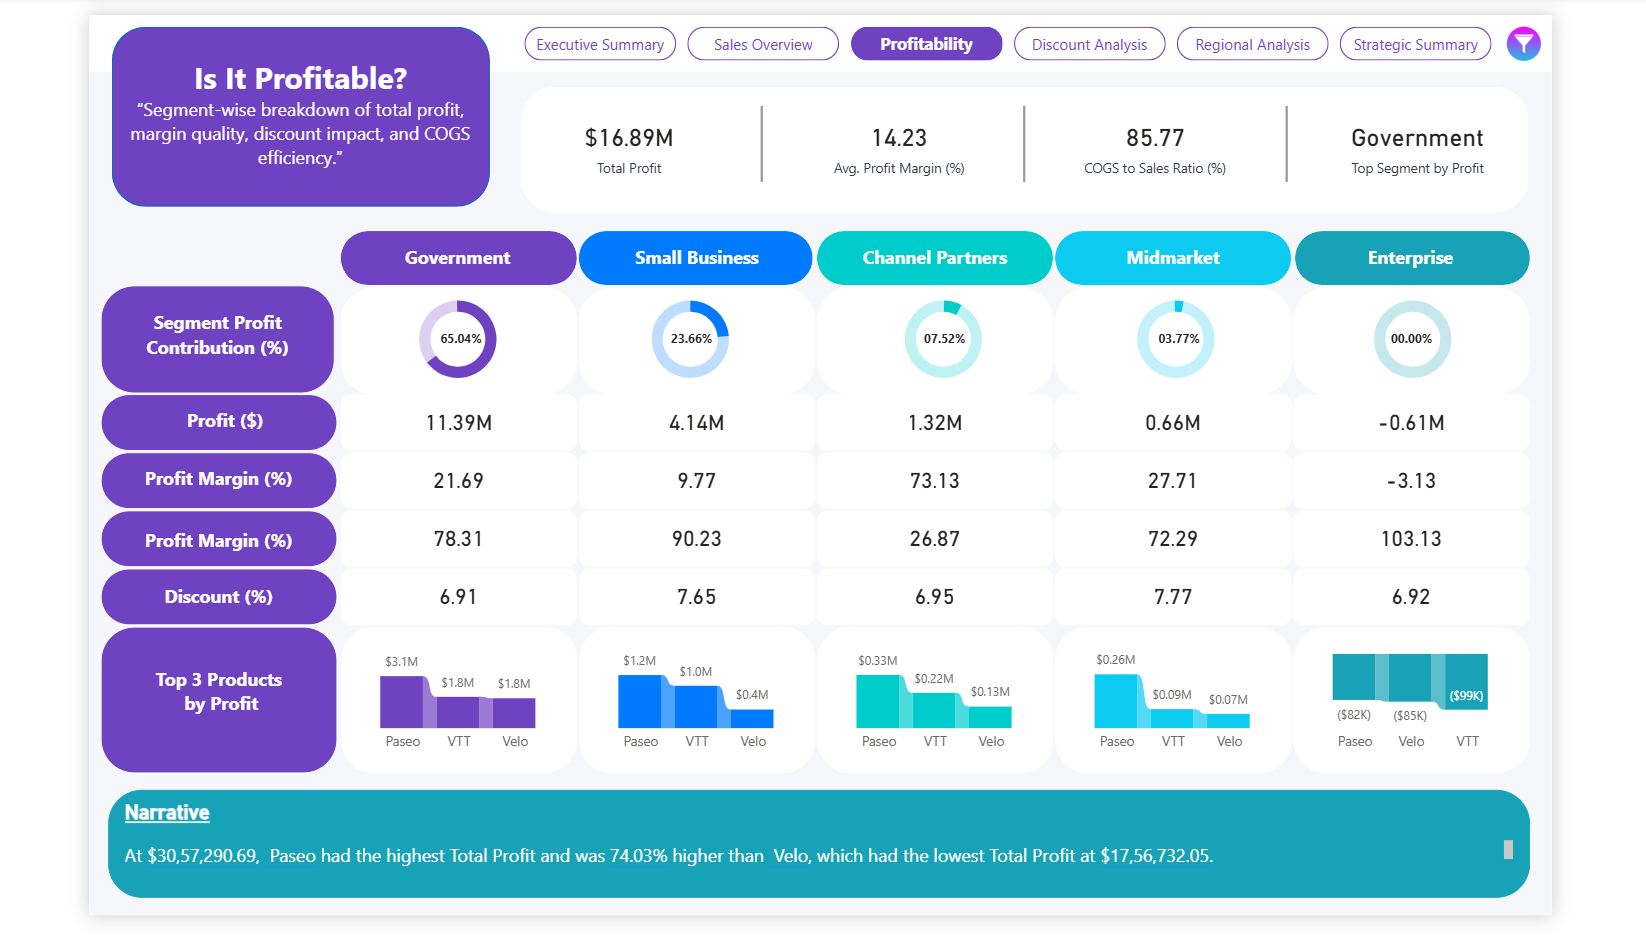

The page's visual inventory and layout, read from the dashboard file:
{"tool":"powerbi","page":{"name":"Profitability","canvas":[1300,800],"ordinal":2},"visuals":[{"type":"shape","box":[384,64,896,112],"z":0,"group":"g2"},{"type":"card","fields":{"Values":["finance_data.Total Profit"]},"box":[400,74.7,160,85.3],"z":0,"group":"g1"},{"type":"shape","box":[224,192,210,48],"z":0,"group":"g8"},{"type":"shape","box":[435,192,208,48],"z":0,"group":"g9"},{"type":"shape","box":[647,192,210,48],"z":0,"group":"g10"},{"type":"shape","box":[859,192,210,48],"z":0,"group":"g11"},{"type":"shape","box":[1071,192,209,48],"z":0,"group":"g12"},{"type":"shape","box":[10,240,208,96],"z":0},{"type":"shape","box":[224,242,210,95],"z":0,"group":"g3"},{"type":"shape","box":[435,242,210,95],"z":0,"group":"g4"},{"type":"shape","box":[647,242,210,95],"z":0,"group":"g5"},{"type":"shape","box":[859,242,210,95],"z":0,"group":"g6"},{"type":"shape","box":[1070,242,210,95],"z":0,"group":"g7"},{"type":"group","id":"g1","title":"Group 1","box":[400,74.7,864,85.3],"z":1000,"group":"g2"},{"type":"card","fields":{"Values":["finance_data.Profit Margin (%)"]},"box":[640,74.7,160,85.3],"z":1000,"group":"g1"},{"type":"textbox","box":[224,198,208,35],"z":1000,"group":"g8"},{"type":"textbox","box":[438,198,208,35],"z":1000,"group":"g9"},{"type":"textbox","box":[647,198,210,35],"z":1000,"group":"g10"},{"type":"textbox","box":[859,198,210,35],"z":1000,"group":"g11"},{"type":"textbox","box":[1070,198,209,35],"z":1000,"group":"g12"},{"type":"donutChart","fields":{"Category":["finance_data.Segment"],"Y":["finance_data.Total Profit"]},"box":[272,240,112,96],"z":1000,"group":"g3"},{"type":"donutChart","fields":{"Category":["finance_data.Segment"],"Y":["finance_data.Total Profit"]},"box":[479,240,112,96],"z":1000,"group":"g4"},{"type":"donutChart","fields":{"Category":["finance_data.Segment"],"Y":["finance_data.Total Profit"]},"box":[703,240,112,96],"z":1000,"group":"g5"},{"type":"donutChart","fields":{"Category":["finance_data.Segment"],"Y":["finance_data.Total Profit"]},"box":[911,240,112,96],"z":1000,"group":"g6"},{"type":"donutChart","fields":{"Category":["finance_data.Segment"],"Y":["finance_data.Total Profit"]},"box":[1119.5,240,113.1,96],"z":1000,"group":"g7"},{"type":"card","fields":{"Values":["finance_data.Government COGS Ratio"]},"box":[224,440,210,50],"z":1000},{"type":"card","fields":{"Values":["finance_data.COGS to Sales Ratio (%)"]},"box":[865.8,74.7,165.3,85.3],"z":2000,"group":"g1"},{"type":"shape","box":[583.1,81.1,32,68.3],"z":2000,"group":"g2"},{"type":"card","fields":{"Values":["finance_data.Government Discount %"]},"box":[224,491,210,50],"z":2000},{"type":"shape","box":[0,0,1300,50],"z":3000},{"type":"card","fields":{"Values":["finance_data.Top Segment by Profit"]},"box":[1098.7,74.7,165.3,85.3],"z":3000,"group":"g1"},{"type":"shape","box":[816,81.1,32,68.3],"z":3000,"group":"g2"},{"type":"shape","box":[1048.9,81.1,32,68.3],"z":4000,"group":"g2"},{"type":"card","fields":{"Values":["finance_data.Small Business COGS Ratio"]},"box":[435,440,210,50],"z":4000},{"type":"card","fields":{"Values":["finance_data.Small Business Discount %"]},"box":[435,491,210,50],"z":5000},{"type":"image","box":[1260,10,30,30],"z":6000},{"type":"card","fields":{"Values":["finance_data.Channel Partners COGS Ratio"]},"box":[647,440,210,50],"z":7000},{"type":"card","fields":{"Values":["finance_data.Channel Partners Discount %"]},"box":[647,491,210,50],"z":8000},{"type":"pageNavigator","box":[387,10,864,30],"z":9000},{"type":"card","fields":{"Values":["finance_data.Midmarket COGS Ratio"]},"box":[859,440,210,50],"z":10000},{"type":"card","fields":{"Values":["finance_data.Midmarket Discount %"]},"box":[859,491,210,50],"z":11000},{"type":"shape","box":[20,10,336,160],"z":12000},{"type":"card","fields":{"Values":["finance_data.Enterprise COGS Ratio"]},"box":[1070,440,210,50],"z":13000},{"type":"card","fields":{"Values":["finance_data.Enterprise Discount %"]},"box":[1070,491,210,50],"z":14000},{"type":"group","id":"g2","title":"Group 2","box":[384,64,896,112],"z":15000},{"type":"textbox","box":[20,32,335,48],"z":16000},{"type":"textbox","box":[20,66,335,80],"z":17000},{"type":"group","id":"g3","title":"Group 3","box":[224,240,210,97],"z":18000},{"type":"group","id":"g4","title":"Group 4","box":[435,240,210,97],"z":19000},{"type":"group","id":"g5","title":"Group 5","box":[647,240,210,97],"z":20000},{"type":"group","id":"g6","title":"Group 6","box":[859,240,210,97],"z":21000},{"type":"group","id":"g7","title":"Group 7","box":[1070,240,210,97],"z":22000},{"type":"group","id":"g8","title":"Group 8","box":[224,192,210,48],"z":23000},{"type":"group","id":"g9","title":"Group 9","box":[435,192,211,48],"z":24000},{"type":"group","id":"g10","title":"Group 10","box":[647,192,210,48],"z":25000},{"type":"group","id":"g11","title":"Group 11","box":[859,192,210,48],"z":26000},{"type":"group","id":"g12","title":"Group 12","box":[1070,192,210,48],"z":27000},{"type":"card","fields":{"Values":["finance_data.goverment Profit"]},"box":[224,337,210,50],"z":28000},{"type":"card","fields":{"Values":["finance_data.Small Business Profit"]},"box":[435,337,210,50],"z":29000},{"type":"card","fields":{"Values":["finance_data.Enterprise Profit"]},"box":[1070,337,210,50],"z":30000},{"type":"card","fields":{"Values":["finance_data.Channel Partners Profit"]},"box":[647,337,210,50],"z":31000},{"type":"card","fields":{"Values":["finance_data.Midmarket Profit"]},"box":[859,337,210,50],"z":32000},{"type":"card","fields":{"Values":["finance_data.Government Profit Margin"]},"box":[224,388,210,50],"z":33000},{"type":"card","fields":{"Values":["finance_data.Small Business Profit Margin"]},"box":[435,388,210,50],"z":34000},{"type":"card","fields":{"Values":["finance_data.Channel Partners Profit Margin"]},"box":[647,388,210,50],"z":35000},{"type":"card","fields":{"Values":["finance_data.Midmarket Profit Margin"]},"box":[859,388,210,50],"z":36000},{"type":"card","fields":{"Values":["finance_data.Enterprise Profit Margin"]},"box":[1070,388,210,50],"z":37000},{"type":"columnChart","fields":{"Y":["finance_data.Total Profit"],"Category":["finance_data. Product "]},"box":[224,543,210,130],"z":38000},{"type":"columnChart","fields":{"Y":["finance_data.Total Profit"],"Category":["finance_data. Product "]},"box":[1070,543,210,130],"z":39000},{"type":"columnChart","fields":{"Y":["finance_data.Total Profit"],"Category":["finance_data. Product "]},"box":[859,543,210,130],"z":40000},{"type":"columnChart","fields":{"Y":["finance_data.Total Profit"],"Category":["finance_data. Product "]},"box":[647,543,210,130],"z":41000},{"type":"columnChart","fields":{"Y":["finance_data.Total Profit"],"Category":["finance_data. Product "]},"box":[435,543,210,130],"z":42000},{"type":"textbox","box":[298,272,64,32],"z":43000},{"type":"textbox","box":[503,272,64,32],"z":44000},{"type":"textbox","box":[728,272,64,32],"z":45000},{"type":"textbox","box":[936,272,64,32],"z":46000},{"type":"textbox","box":[1144,272,64,32],"z":47000},{"type":"shape","box":[10,337,210,50],"z":48000},{"type":"shape","box":[10,388,210,50],"z":49000},{"type":"shape","box":[10,440,210,50],"z":50000},{"type":"shape","box":[10,491,210,50],"z":51000},{"type":"shape","box":[10,543,210,130],"z":52000},{"type":"textbox","box":[10,256,208,64],"z":53000},{"type":"textbox","box":[16,344,208,48],"z":54000},{"type":"textbox","box":[10,395,210,50],"z":55000},{"type":"textbox","box":[10,450,210,50],"z":56000},{"type":"textbox","box":[10,500,210,50],"z":57000},{"type":"textbox","box":[10,573,210,70],"z":58000},{"type":"textbox","title":"Narrative","box":[16,688,1264,96],"z":59000}]}

Visuals, with their boxes on the page's 1300x800 design canvas (x1, y1, x2, y2). These are canvas units, not pixel positions in the 1646x935 screenshot, which may show the page scaled, cropped or inside an application window:
shape: [384, 64, 1280, 176]
card - finance_data.Total Profit: [400, 75, 560, 160]
shape: [224, 192, 434, 240]
shape: [435, 192, 643, 240]
shape: [647, 192, 857, 240]
shape: [859, 192, 1069, 240]
shape: [1071, 192, 1280, 240]
shape: [10, 240, 218, 336]
shape: [224, 242, 434, 337]
shape: [435, 242, 645, 337]
shape: [647, 242, 857, 337]
shape: [859, 242, 1069, 337]
shape: [1070, 242, 1280, 337]
"Group 1" group: [400, 75, 1264, 160]
card - finance_data.Profit Margin (%): [640, 75, 800, 160]
textbox: [224, 198, 432, 233]
textbox: [438, 198, 646, 233]
textbox: [647, 198, 857, 233]
textbox: [859, 198, 1069, 233]
textbox: [1070, 198, 1279, 233]
donutChart - finance_data.Segment x finance_data.Total Profit: [272, 240, 384, 336]
donutChart - finance_data.Segment x finance_data.Total Profit: [479, 240, 591, 336]
donutChart - finance_data.Segment x finance_data.Total Profit: [703, 240, 815, 336]
donutChart - finance_data.Segment x finance_data.Total Profit: [911, 240, 1023, 336]
donutChart - finance_data.Segment x finance_data.Total Profit: [1120, 240, 1233, 336]
card - finance_data.Government COGS Ratio: [224, 440, 434, 490]
card - finance_data.COGS to Sales Ratio (%): [866, 75, 1031, 160]
shape: [583, 81, 615, 149]
card - finance_data.Government Discount %: [224, 491, 434, 541]
shape: [0, 0, 1300, 50]
card - finance_data.Top Segment by Profit: [1099, 75, 1264, 160]
shape: [816, 81, 848, 149]
shape: [1049, 81, 1081, 149]
card - finance_data.Small Business COGS Ratio: [435, 440, 645, 490]
card - finance_data.Small Business Discount %: [435, 491, 645, 541]
image: [1260, 10, 1290, 40]
card - finance_data.Channel Partners COGS Ratio: [647, 440, 857, 490]
card - finance_data.Channel Partners Discount %: [647, 491, 857, 541]
pageNavigator: [387, 10, 1251, 40]
card - finance_data.Midmarket COGS Ratio: [859, 440, 1069, 490]
card - finance_data.Midmarket Discount %: [859, 491, 1069, 541]
shape: [20, 10, 356, 170]
card - finance_data.Enterprise COGS Ratio: [1070, 440, 1280, 490]
card - finance_data.Enterprise Discount %: [1070, 491, 1280, 541]
"Group 2" group: [384, 64, 1280, 176]
textbox: [20, 32, 355, 80]
textbox: [20, 66, 355, 146]
"Group 3" group: [224, 240, 434, 337]
"Group 4" group: [435, 240, 645, 337]
"Group 5" group: [647, 240, 857, 337]
"Group 6" group: [859, 240, 1069, 337]
"Group 7" group: [1070, 240, 1280, 337]
"Group 8" group: [224, 192, 434, 240]
"Group 9" group: [435, 192, 646, 240]
"Group 10" group: [647, 192, 857, 240]
"Group 11" group: [859, 192, 1069, 240]
"Group 12" group: [1070, 192, 1280, 240]
card - finance_data.goverment Profit: [224, 337, 434, 387]
card - finance_data.Small Business Profit: [435, 337, 645, 387]
card - finance_data.Enterprise Profit: [1070, 337, 1280, 387]
card - finance_data.Channel Partners Profit: [647, 337, 857, 387]
card - finance_data.Midmarket Profit: [859, 337, 1069, 387]
card - finance_data.Government Profit Margin: [224, 388, 434, 438]
card - finance_data.Small Business Profit Margin: [435, 388, 645, 438]
card - finance_data.Channel Partners Profit Margin: [647, 388, 857, 438]
card - finance_data.Midmarket Profit Margin: [859, 388, 1069, 438]
card - finance_data.Enterprise Profit Margin: [1070, 388, 1280, 438]
columnChart - finance_data.Total Profit x finance_data. Product : [224, 543, 434, 673]
columnChart - finance_data.Total Profit x finance_data. Product : [1070, 543, 1280, 673]
columnChart - finance_data.Total Profit x finance_data. Product : [859, 543, 1069, 673]
columnChart - finance_data.Total Profit x finance_data. Product : [647, 543, 857, 673]
columnChart - finance_data.Total Profit x finance_data. Product : [435, 543, 645, 673]
textbox: [298, 272, 362, 304]
textbox: [503, 272, 567, 304]
textbox: [728, 272, 792, 304]
textbox: [936, 272, 1000, 304]
textbox: [1144, 272, 1208, 304]
shape: [10, 337, 220, 387]
shape: [10, 388, 220, 438]
shape: [10, 440, 220, 490]
shape: [10, 491, 220, 541]
shape: [10, 543, 220, 673]
textbox: [10, 256, 218, 320]
textbox: [16, 344, 224, 392]
textbox: [10, 395, 220, 445]
textbox: [10, 450, 220, 500]
textbox: [10, 500, 220, 550]
textbox: [10, 573, 220, 643]
"Narrative" textbox: [16, 688, 1280, 784]
